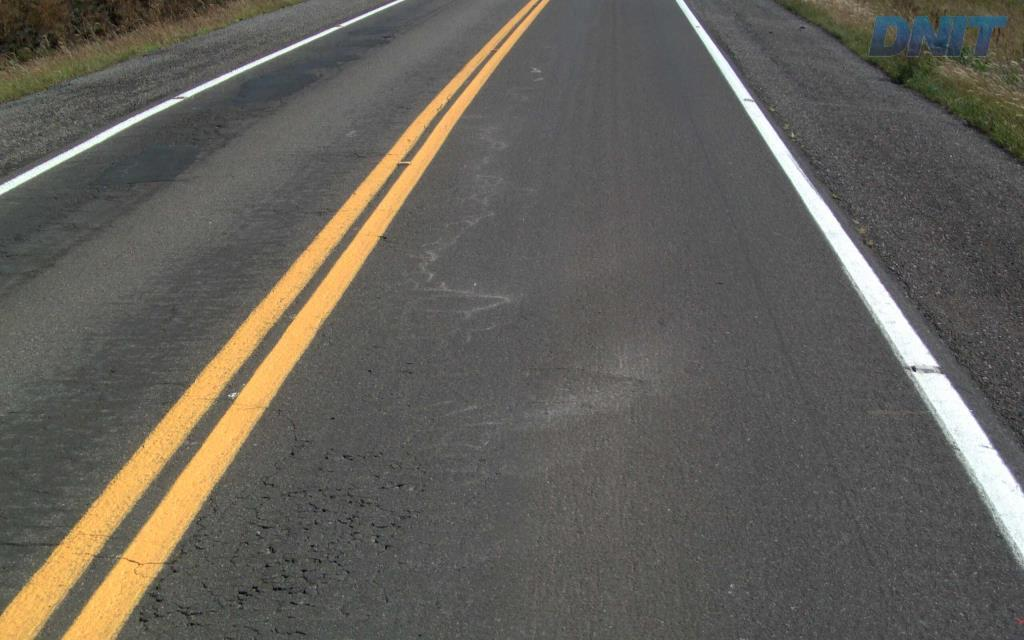crack: (223, 550, 319, 600), (304, 541, 355, 577)
